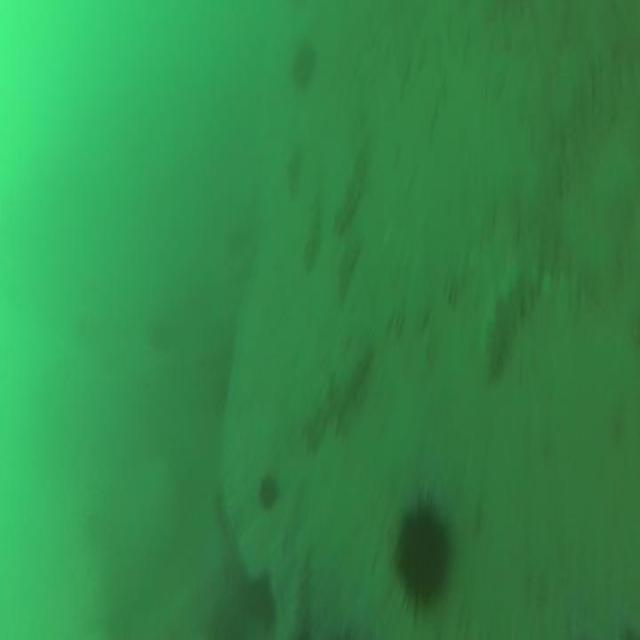echinus: (393, 500, 448, 600), (291, 40, 317, 84), (258, 479, 274, 509)
holothurian: (480, 267, 539, 378), (332, 137, 369, 234), (286, 561, 312, 637), (303, 204, 321, 272), (287, 155, 300, 194)
